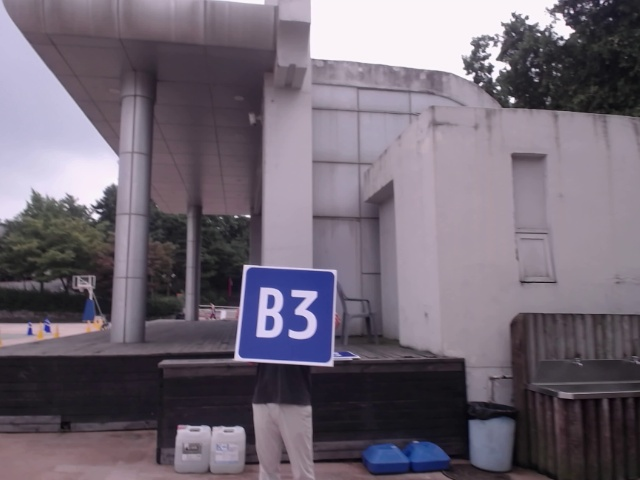delivery_b3: (238, 269, 334, 367)
